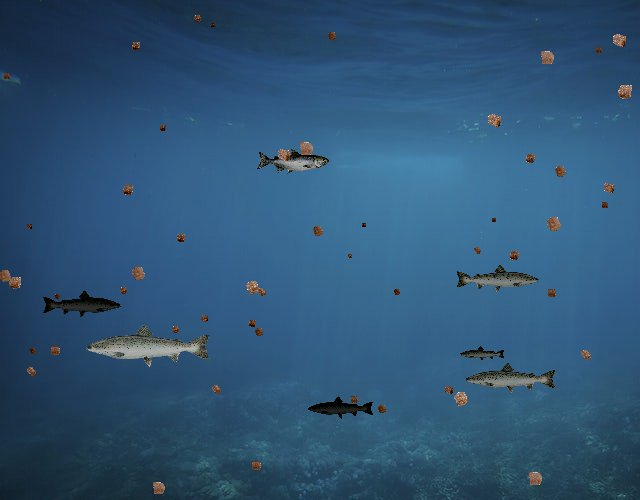Fish: (84, 322, 213, 368), (464, 361, 558, 395), (454, 263, 540, 294), (42, 290, 123, 319), (257, 149, 330, 175), (307, 396, 375, 420), (460, 346, 507, 363)
Pellet: (610, 76, 640, 106), (238, 273, 266, 301), (270, 142, 297, 169), (23, 220, 35, 232)
